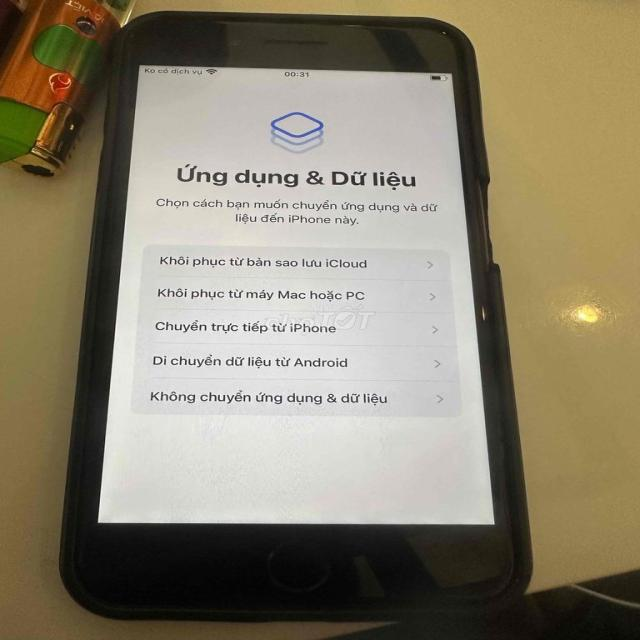gen_7_8: (53, 7, 534, 630)
scratch: (467, 297, 496, 327), (429, 22, 455, 40)
